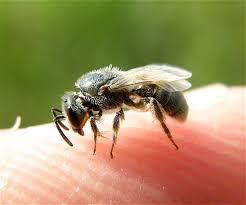Lasioglossum: (47, 55, 200, 161)
